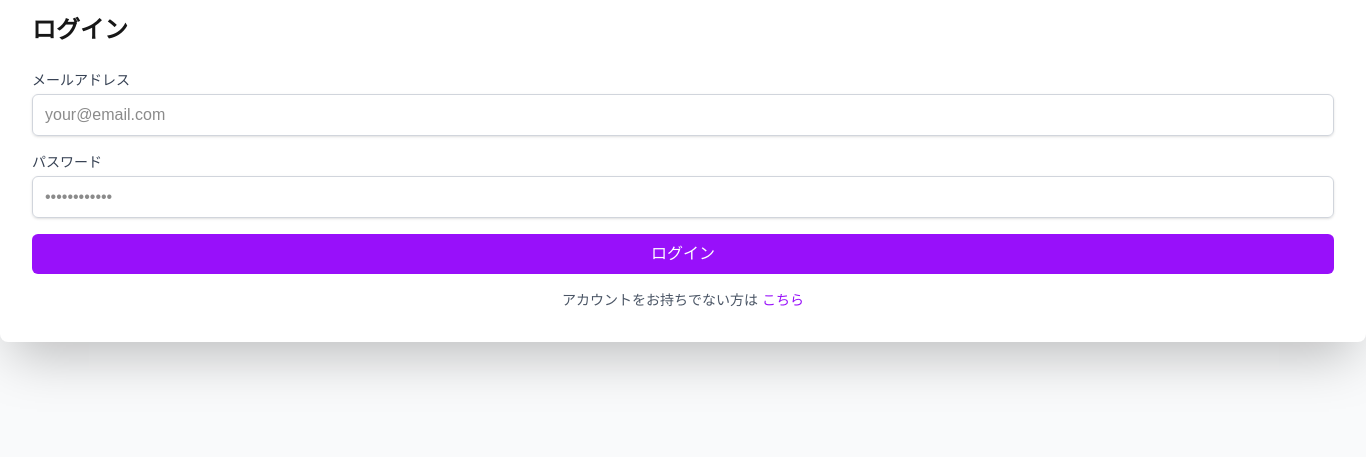
Test case: LoginPageClient › エラーメッセージの種類 › 400エラー時にエラーメッセージが表示される
Type "test@example.com" into the field labelled "メールアドレス" at (683, 115), box [32, 94, 1334, 136]
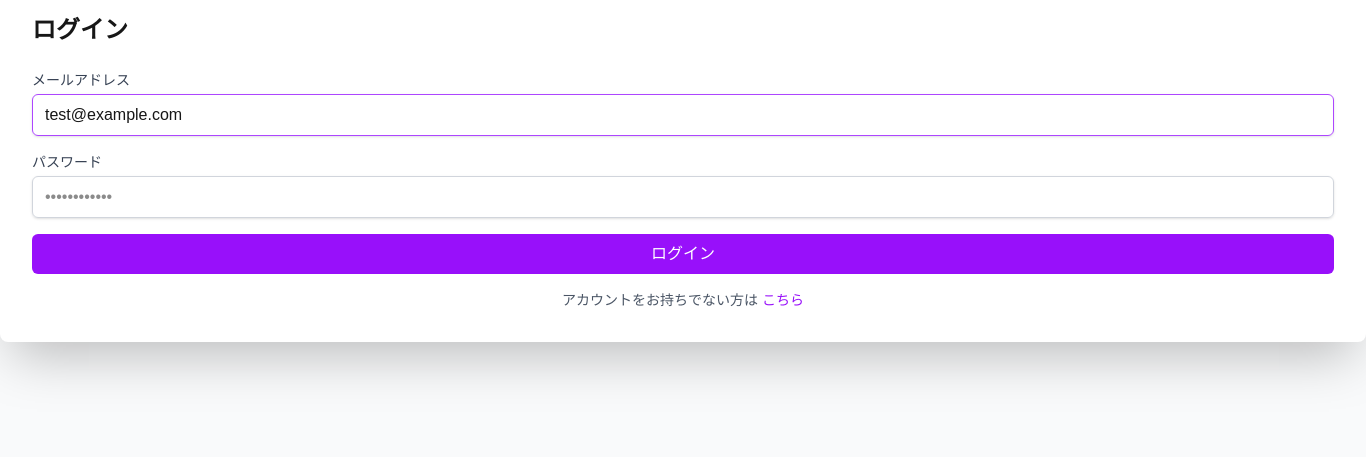
Type "Password123!" into the password field labelled "パスワード" at (683, 197), box [32, 176, 1334, 218]
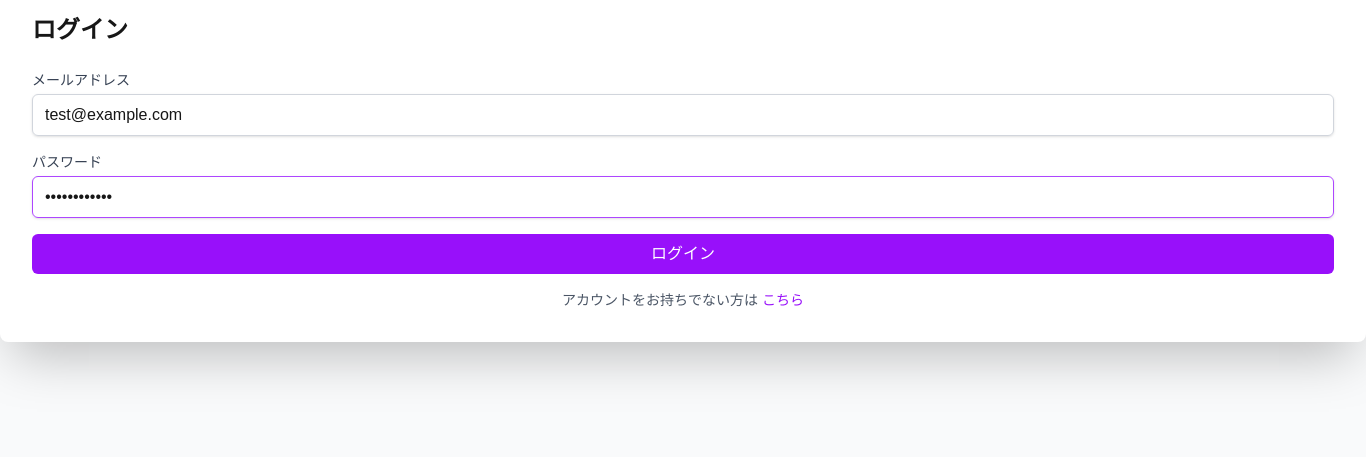
Click the button "ログイン" at (683, 254), box [32, 234, 1334, 274]
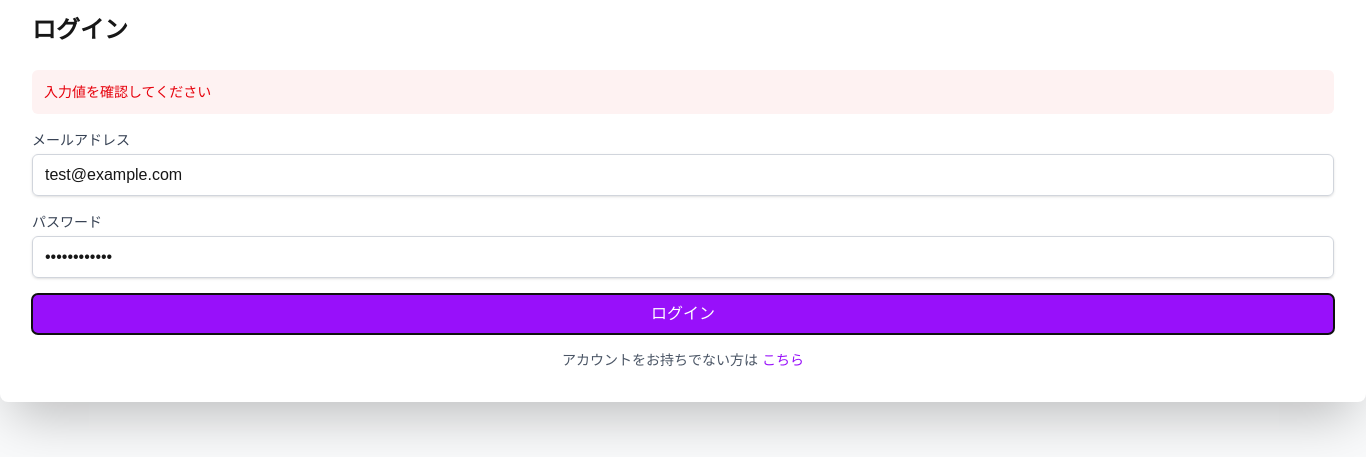
Expected: the text "入力値を確認してください" is shown, [32, 70, 1334, 114]
